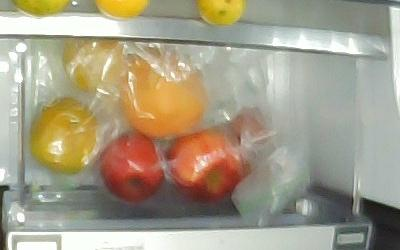apple_vinyl: (163, 125, 247, 204), (97, 129, 165, 201)
grapefruit_vinyl: (117, 45, 208, 137)
persimmon_vinyl: (29, 94, 99, 174), (60, 37, 126, 92)
prune_vinyl: (230, 107, 270, 146)
